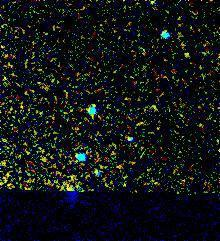star: (171, 40, 201, 70)
